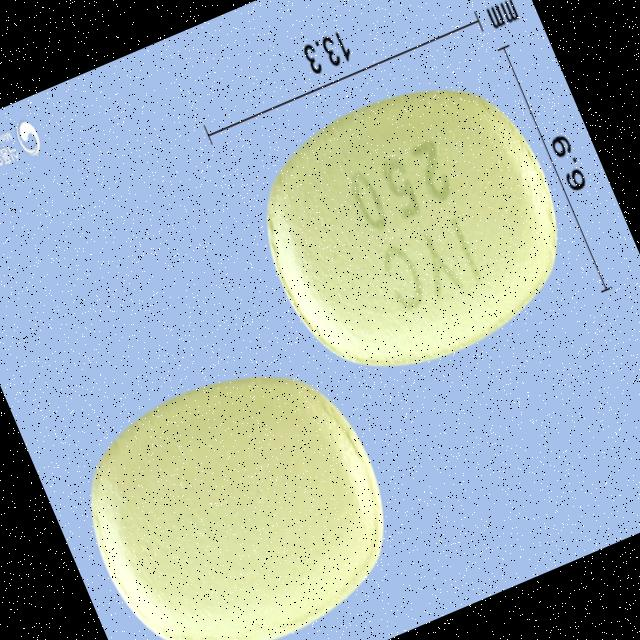Clafacin -500mg: (224, 44, 600, 414), (50, 328, 428, 640)
